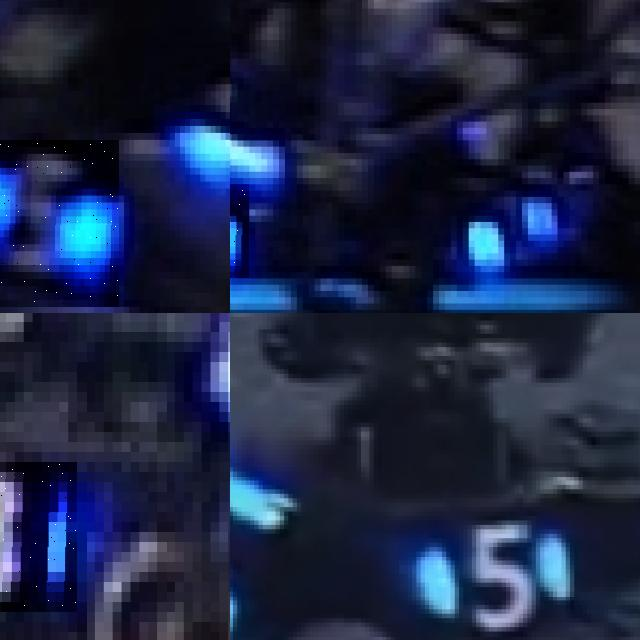B3: (0, 462, 77, 612)
B5: (0, 140, 119, 307), (425, 516, 566, 632)
